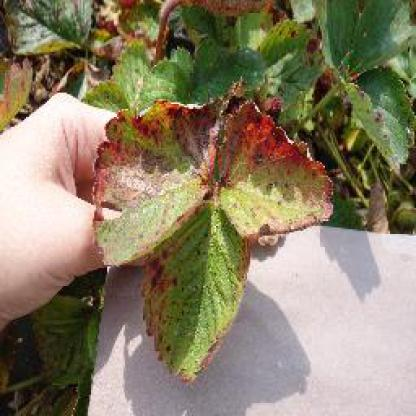leaf scorch: (86, 75, 340, 395)
